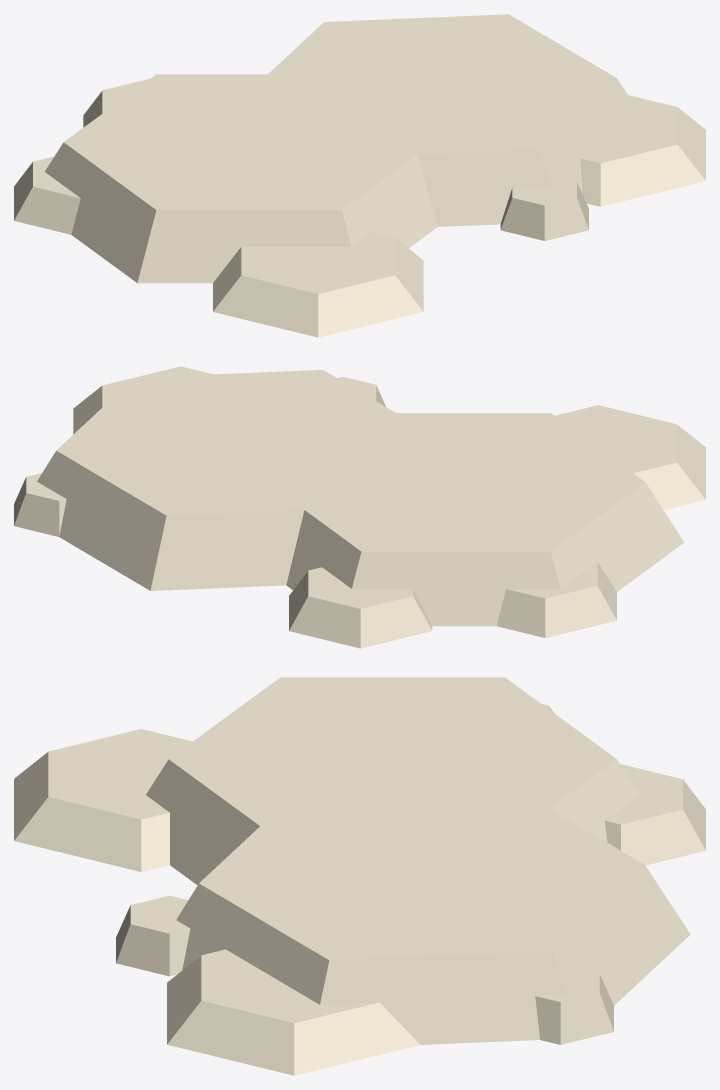
File: rockFlat.glb
3 views of the same model, one above another, from view 1: azimuth 30°, elevation 25°; view 2: azimuth 150°, elevation 25°; view 3: azimuth 270°, elevation 25° (orthographic). The views are drawn at different scales.
Parts seen in each view (by area): view 1: rockFlat; view 2: rockFlat; view 3: rockFlat.
Part boxes in pixels (x1,y1,x2,y2): rockFlat: (14,14,705,337); rockFlat: (14,366,705,648); rockFlat: (14,677,705,1075).
Size of the model in its own units: 7.15 by 0.66 by 5.79.
